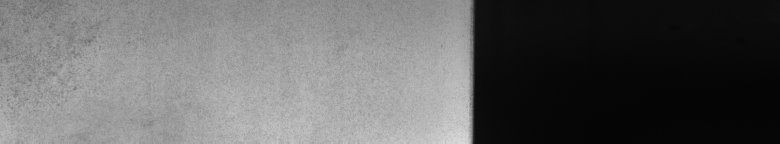ib: (4, 11, 104, 100)
